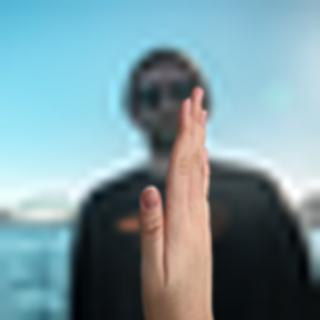Right: (127, 83, 217, 312)
